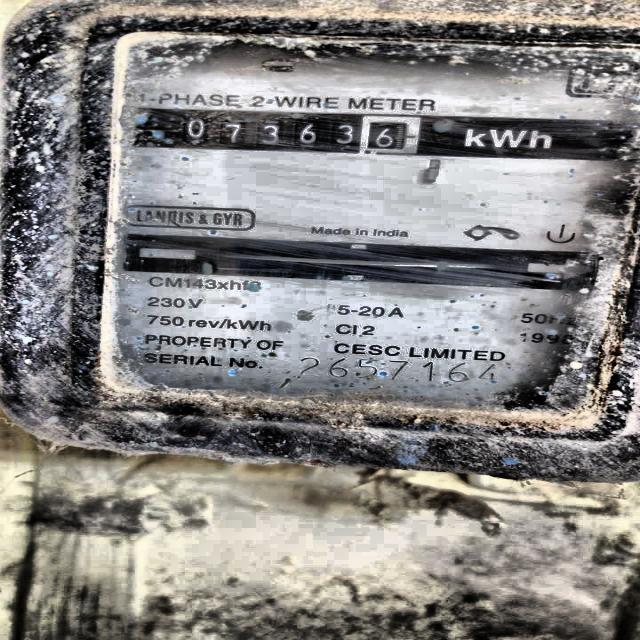Analog: (3, 3, 640, 475)
Reading: (180, 111, 418, 153)
Serial No.: (286, 356, 507, 386)
